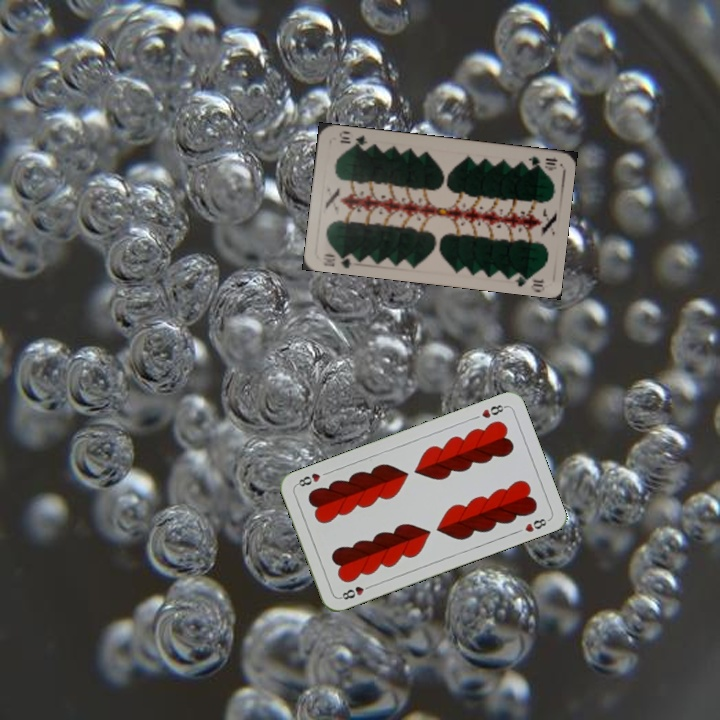G10: (319, 249, 355, 270), (524, 153, 560, 172)
H8: (336, 581, 375, 602), (477, 400, 509, 421)
